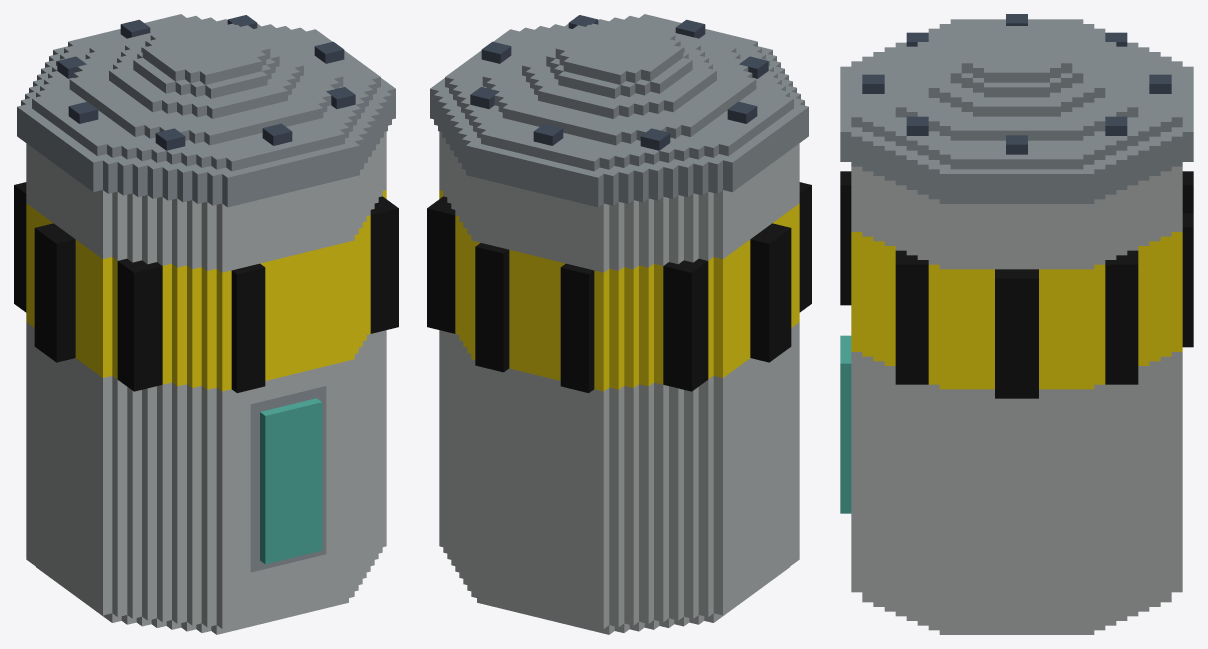
File: canister_goo.glb
The picture shows the model from 3 angles, left to right: view 1: azimuth 30°, elevation 25°; view 2: azimuth 150°, elevation 25°; view 3: azimuth 270°, elevation 25°; orthographic projection.
Visible parts, largest first — view 1: canister_goo:compound; view 2: canister_goo:compound; view 3: canister_goo:compound.
Boxes of the visible parts, x1=… form: canister_goo:compound: x1=14, y1=14, x2=398, y2=634; canister_goo:compound: x1=427, y1=14, x2=811, y2=634; canister_goo:compound: x1=840, y1=14, x2=1193, y2=634.
Size of the model in its own units: 0.068 by 0.104 by 0.064.
